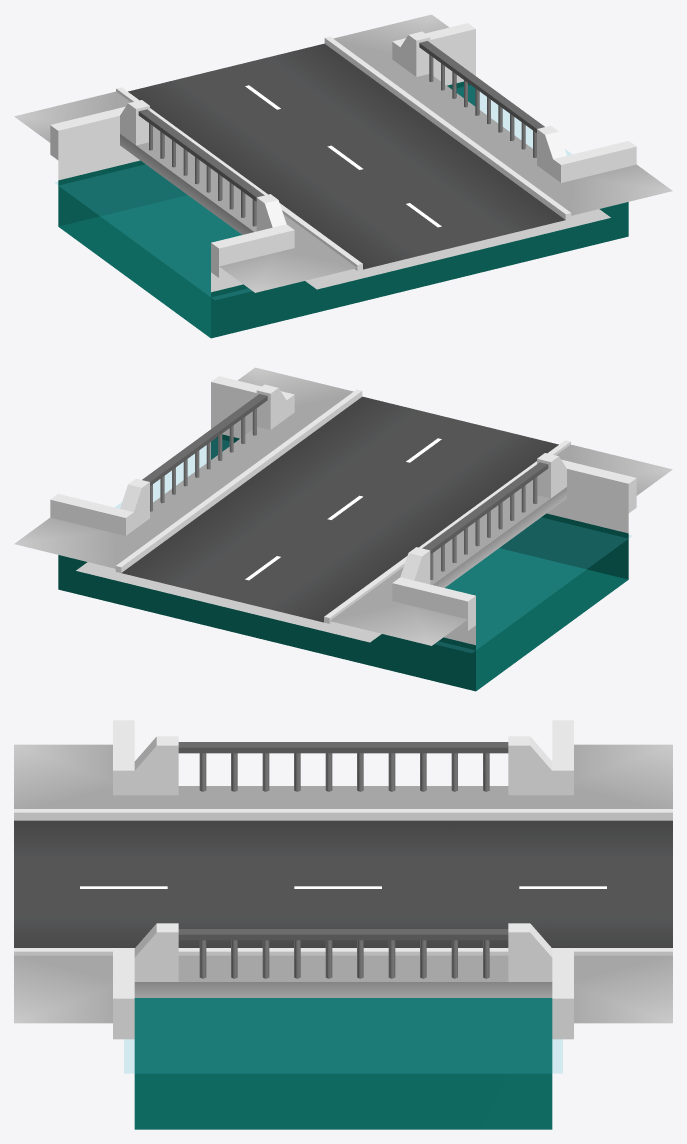
File: road_014.glb
3 renders of one model, top to bottom at view 1: azimuth 30°, elevation 25°; view 2: azimuth 150°, elevation 25°; view 3: azimuth 270°, elevation 25°, orthographic. The views are drawn at different scales.
Visible parts, largest first — view 1: road_014; view 2: road_014; view 3: road_014.
Part boxes in pixels (x1,y1,x2,y2): road_014: [14, 14, 672, 338]; road_014: [14, 367, 672, 691]; road_014: [14, 720, 672, 1129].
Size of the model in its own units: 15 by 3.92 by 15.
Materials: 2 (2 with a texture image).
